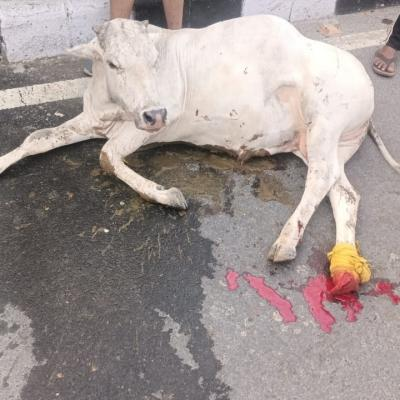bleeding: (308, 242, 386, 331)
